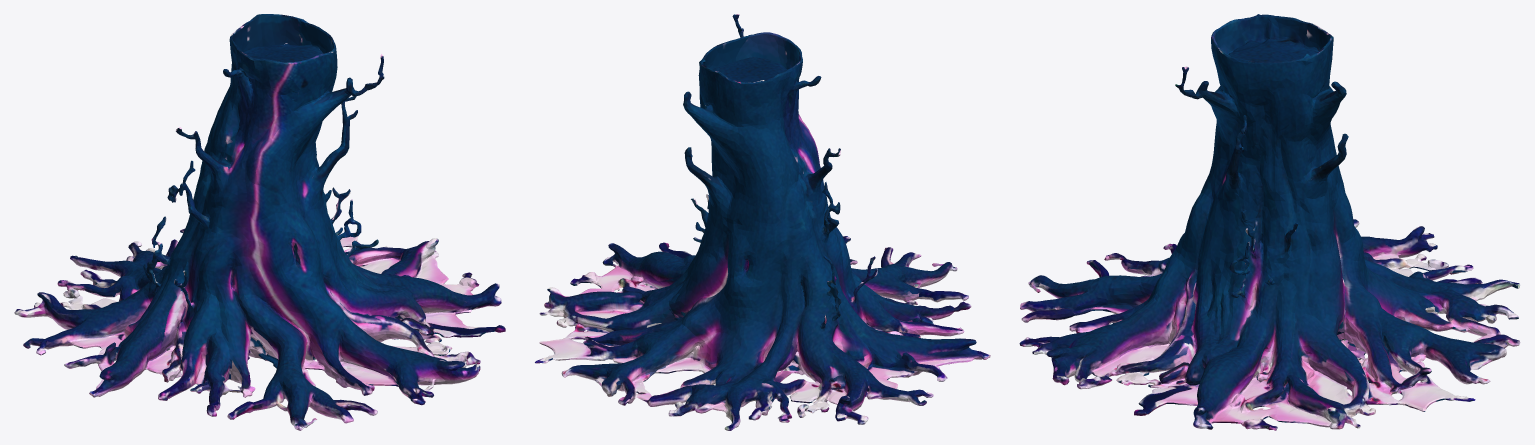
Rendered from sea-root-north-generated-2026-05-17T19-28-31-825Z.glb.
3 views of the same model, side by side, from view 1: azimuth 30°, elevation 25°; view 2: azimuth 150°, elevation 25°; view 3: azimuth 270°, elevation 25° (orthographic). The views are drawn at different scales.
Parts seen in each view (by area): view 1: temp_mesh.ply; view 2: temp_mesh.ply; view 3: temp_mesh.ply.
Boxes of the visible parts, box(x1,y1,x2,y2) form: temp_mesh.ply: box(14, 14, 505, 430); temp_mesh.ply: box(535, 14, 990, 430); temp_mesh.ply: box(1019, 14, 1520, 430).
Size of the model in its own units: 1.96 by 1.35 by 1.97.
Materials: 1 (1 with a texture image).
